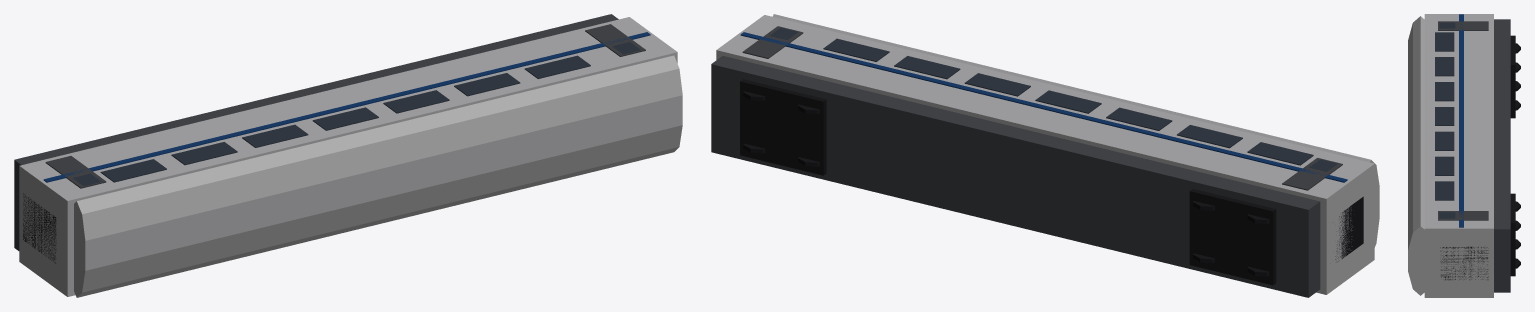
The model's file is train-carriage.glb.
3 renders of one model, left to right at view 1: azimuth 30°, elevation 25°; view 2: azimuth 150°, elevation 25°; view 3: azimuth 270°, elevation 25°, orthographic. The views are drawn at different scales.
Visible parts, largest first — view 1: train-carriage; view 2: train-carriage; view 3: train-carriage.
Part boxes in pixels (x1,y1,x2,y2): train-carriage: (14, 14, 682, 297); train-carriage: (711, 14, 1379, 297); train-carriage: (1408, 14, 1520, 297).
Bounding box in the file's own units: 19 × 2.93 × 4.22.
